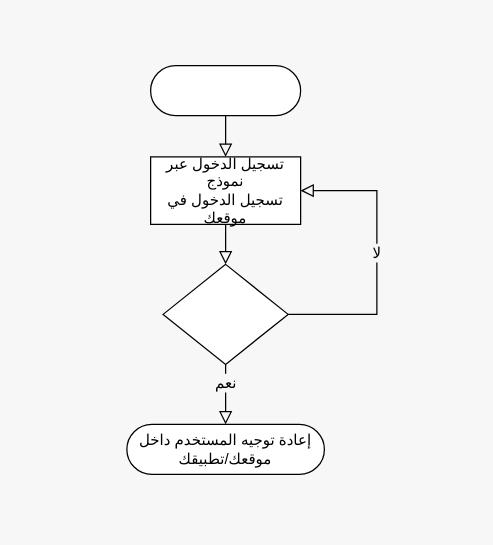
The diagram is 493 pixels wide and 545 high, and some of its shapes have lost their labels. Here are the shapes that lost their labels. From the top down, the centre of each, then its label:
At (225,90): "المستخدم".
At (225,313): "تم تسجيل الدخول؟".
